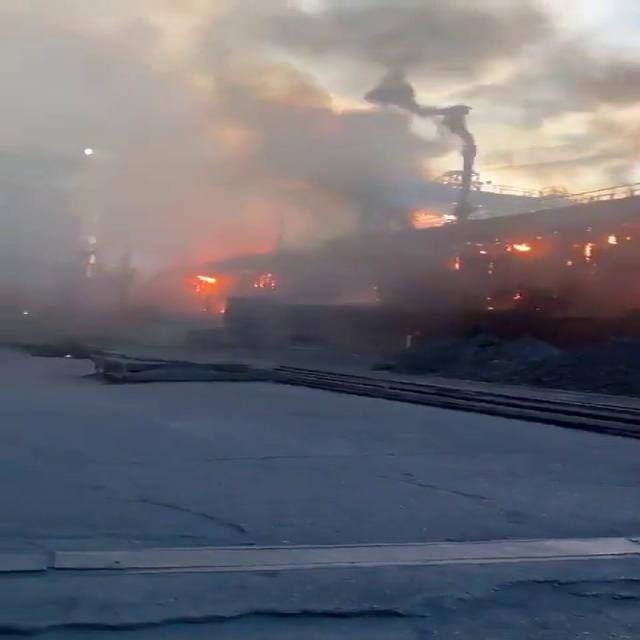Smoke: (0, 11, 521, 280)
